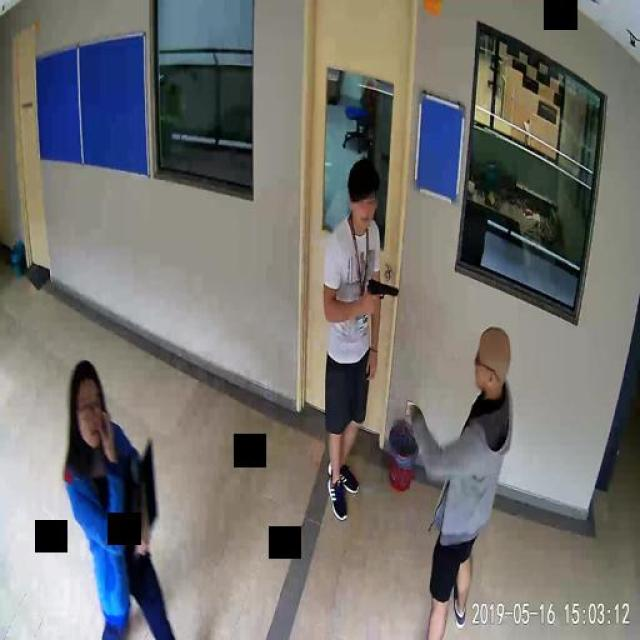gun: (365, 278, 396, 308)
